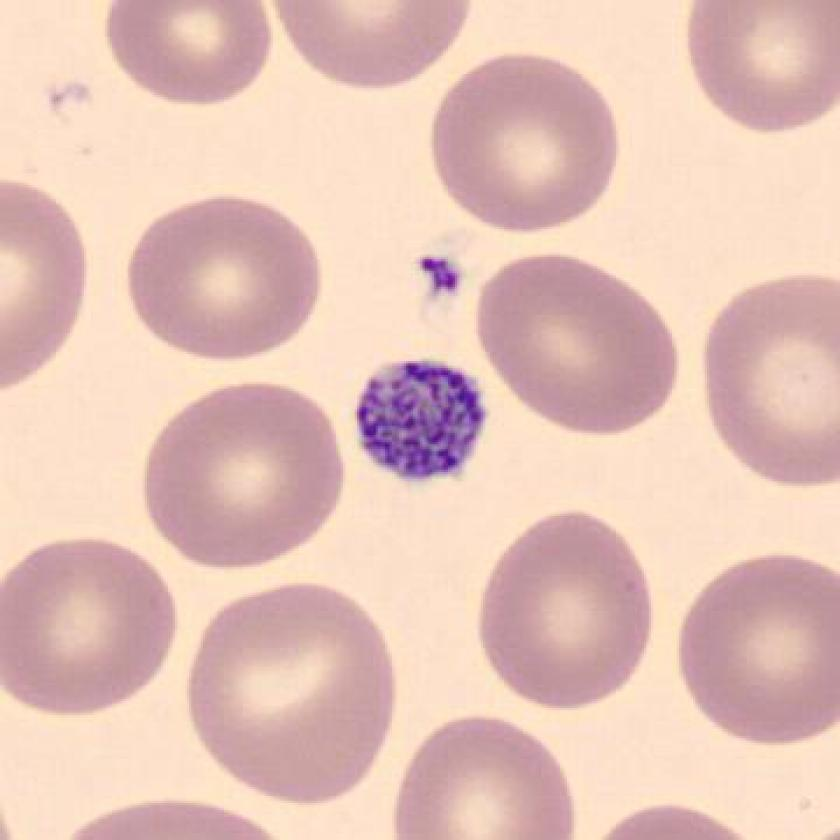platelets: (349, 351, 493, 497), (412, 244, 470, 304)
